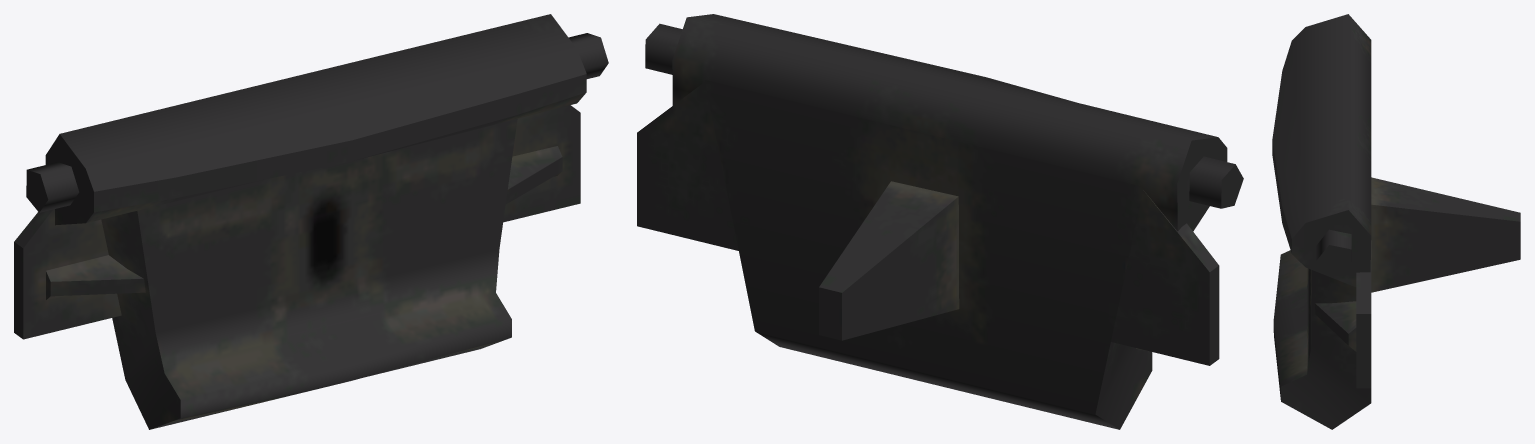
The picture shows the model from 3 angles, left to right: view 1: azimuth 30°, elevation 25°; view 2: azimuth 150°, elevation 25°; view 3: azimuth 270°, elevation 25°; orthographic projection. The views are drawn at different scales.
Parts seen in each view (by area): view 1: set_0_group_0; view 2: set_0_group_0; view 3: set_0_group_0.
Boxes of the visible parts, x1,y1,x2,y2 form: set_0_group_0: (14,14,608,429); set_0_group_0: (637,14,1243,429); set_0_group_0: (1272,14,1520,429).
Bounding box in the file's own units: 0.2719 × 0.1428 × 0.1274.
Materials: 1 (1 with a texture image).
